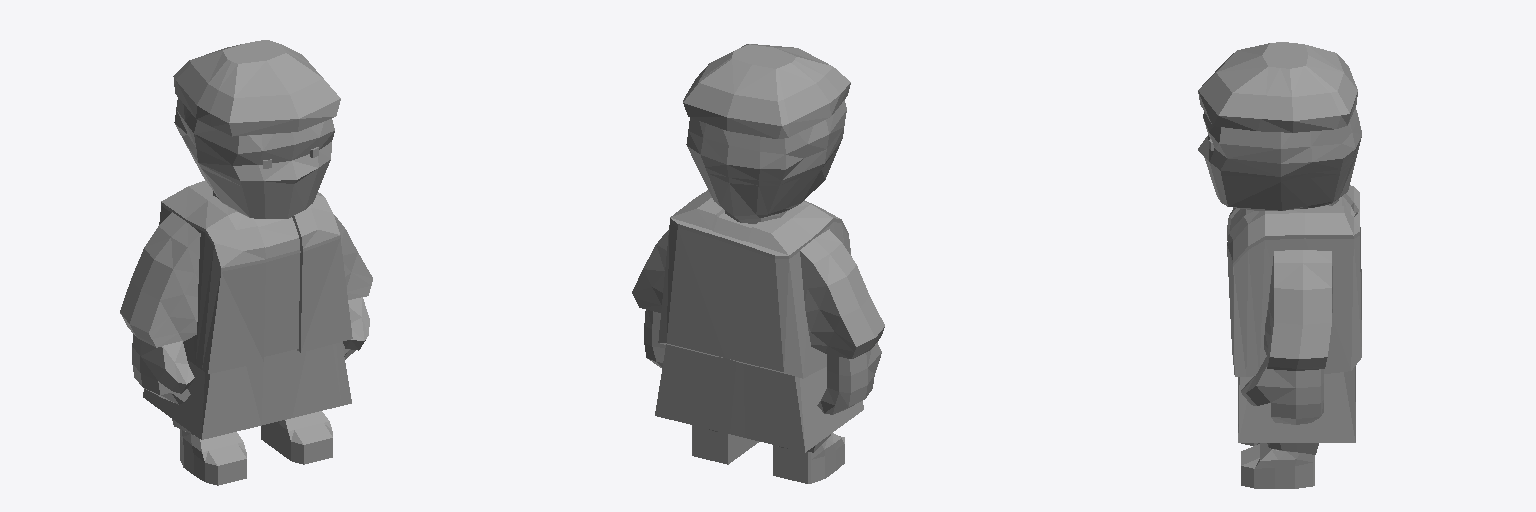
File: personajeprincipal.obj
3 views of the same model, side by side, from view 1: azimuth 30°, elevation 25°; view 2: azimuth 150°, elevation 25°; view 3: azimuth 270°, elevation 25° (orthographic).
Visible parts, largest first — view 1: AK27.000_Cube.000; view 2: AK27.000_Cube.000; view 3: AK27.000_Cube.000.
Boxes of the visible parts, x1,y1,x2,y2 form: AK27.000_Cube.000: [120, 40, 372, 485]; AK27.000_Cube.000: [632, 44, 884, 483]; AK27.000_Cube.000: [1198, 42, 1361, 488].
Bounding box in the file's own units: 0.4836 × 0.7951 × 0.2952.